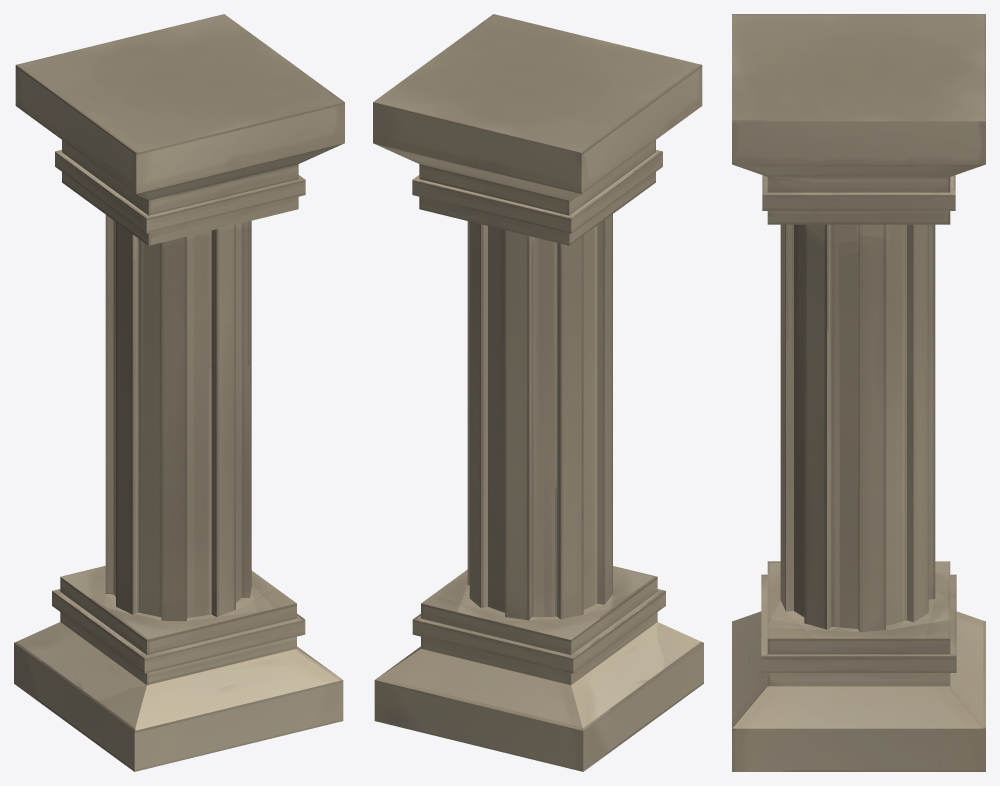
The model's file is pillar.fbx.
The picture shows the model from 3 angles, left to right: view 1: azimuth 30°, elevation 25°; view 2: azimuth 150°, elevation 25°; view 3: azimuth 270°, elevation 25°; orthographic projection. The views are drawn at different scales.
Visible parts, largest first — view 1: pillar; view 2: pillar; view 3: pillar.
Part boxes in pixels (bbox=[...]): pillar: bbox=[14, 14, 344, 771]; pillar: bbox=[373, 14, 703, 771]; pillar: bbox=[732, 14, 985, 771].
Size of the model in its own units: 134 by 376 by 133.
